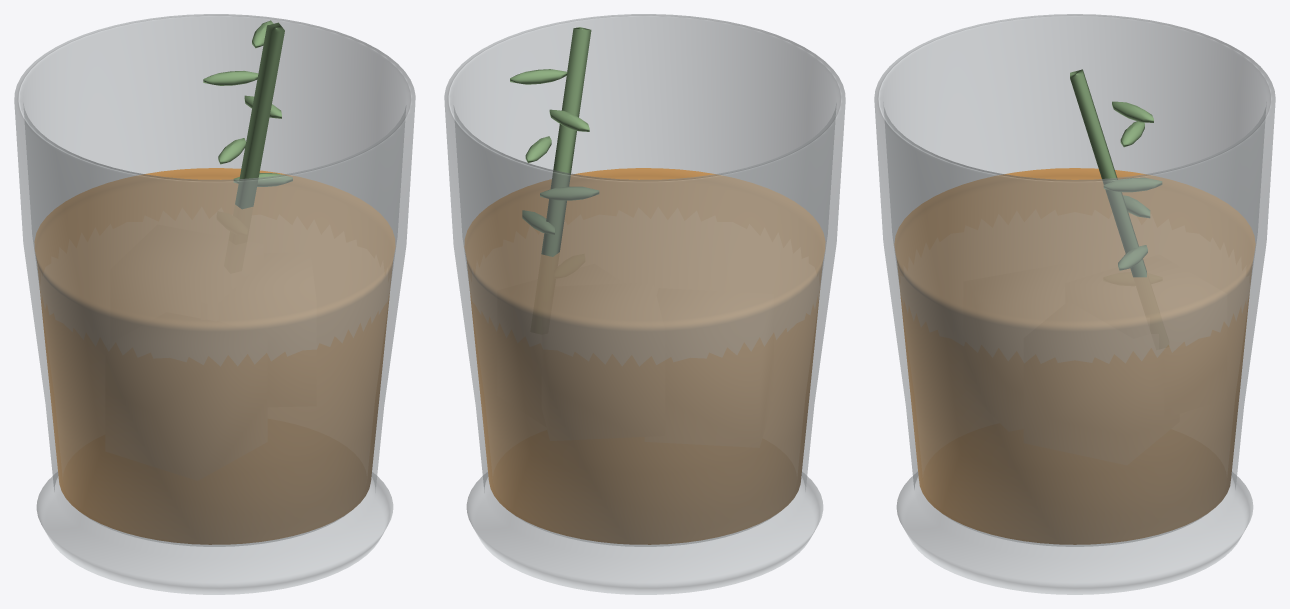
Rendered from coctel-casa.glb.
3 renders of one model, left to right at view 1: azimuth 30°, elevation 25°; view 2: azimuth 150°, elevation 25°; view 3: azimuth 270°, elevation 25°, orthographic.
Bounding box in the file's own units: 0.09 × 0.1191 × 0.09.
